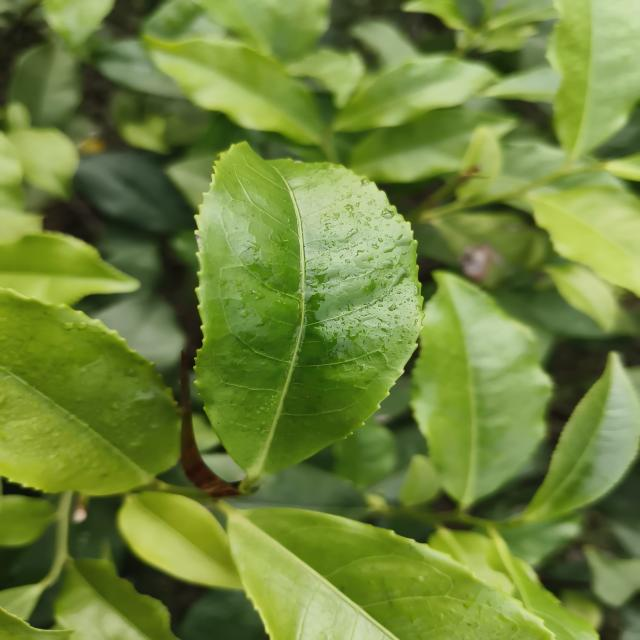Leaf: (195, 143, 422, 482), (228, 508, 553, 640), (0, 292, 179, 495), (411, 272, 551, 509), (523, 352, 640, 521), (145, 36, 324, 145), (547, 0, 640, 160), (334, 54, 497, 131), (350, 108, 515, 183), (529, 186, 640, 296), (118, 492, 242, 589), (73, 150, 194, 234), (0, 232, 139, 305), (55, 559, 178, 640), (92, 292, 186, 371), (7, 41, 82, 127), (544, 262, 620, 331), (333, 417, 396, 489), (0, 495, 55, 547)
